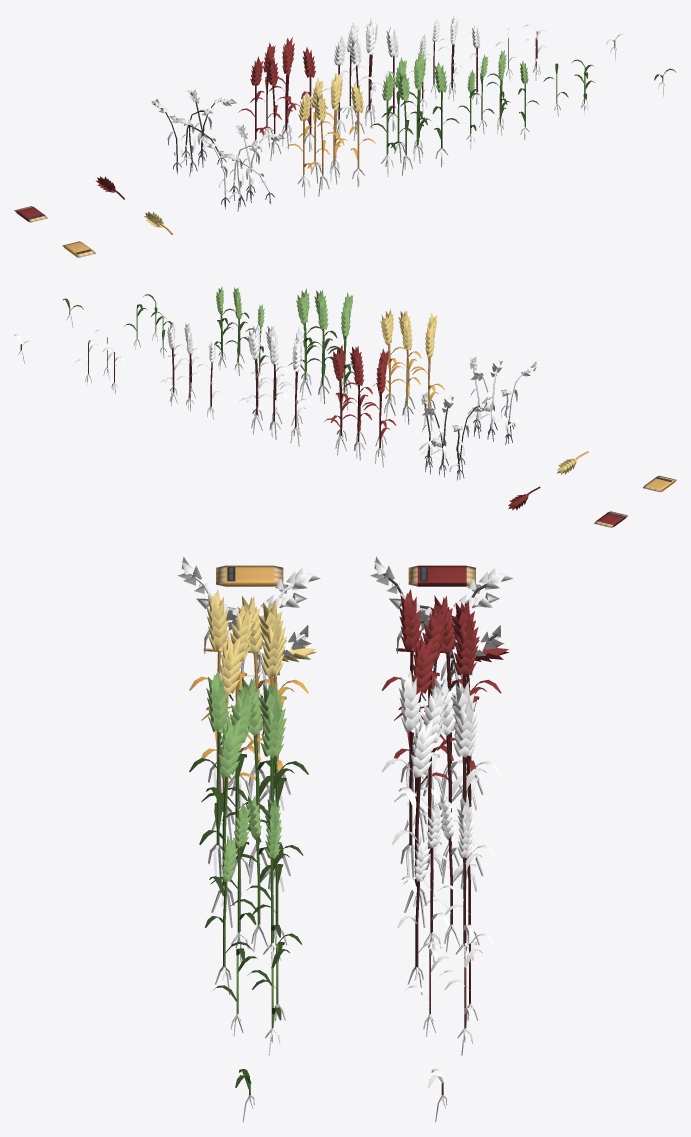
The model's file is WheatPlants.fbx.
3 views of the same model, one above another, from view 1: azimuth 30°, elevation 25°; view 2: azimuth 150°, elevation 25°; view 3: azimuth 270°, elevation 25° (orthographic). The views are drawn at different scales.
Parts seen in each view (by area): view 1: WheatStage4, WheatHarvest, MeatWheatHarvest, MeatWheatStage4, WheatDead, MeatWheatDead, WheatStage3, MeatWheatStage3, WheatStage2, MeatWheatStage2; view 2: MeatWheatHarvest, MeatWheatStage4, WheatHarvest, WheatStage4, MeatWheatDead, WheatDead, MeatWheatStage3, WheatStage3, WheatStage2, MeatWheatStage2; view 3: WheatStage4, MeatWheatStage4, WheatHarvest, MeatWheatHarvest, WheatStage3, MeatWheatStage3, MeatWheatDead, WheatDead, WheatStage2, MeatWheatSeeds, WheatSeeds, MeatWheatStage2.
Boxes of the visible parts, <box> form: WheatStage4: <box>370,52,459,176</box>; WheatHarvest: <box>286,73,375,197</box>; MeatWheatHarvest: <box>238,37,327,162</box>; MeatWheatStage4: <box>322,17,411,140</box>; WheatDead: <box>199,124,284,211</box>; MeatWheatDead: <box>151,89,236,176</box>; WheatStage3: <box>457,50,539,148</box>; MeatWheatStage3: <box>409,14,490,113</box>; WheatStage2: <box>543,59,594,116</box>; MeatWheatStage2: <box>495,24,546,80</box>; MeatWheatHarvest: <box>324,344,396,467</box>; MeatWheatStage4: <box>239,324,311,446</box>; WheatHarvest: <box>372,309,444,431</box>; WheatStage4: <box>288,288,353,410</box>; MeatWheatDead: <box>419,392,492,480</box>; WheatDead: <box>467,357,541,444</box>; MeatWheatStage3: <box>159,322,219,419</box>; WheatStage3: <box>209,287,267,381</box>; WheatStage2: <box>124,294,172,358</box>; MeatWheatStage2: <box>75,329,125,393</box>; WheatStage4: <box>189,670,308,928</box>; MeatWheatStage4: <box>381,670,501,927</box>; WheatHarvest: <box>189,589,308,841</box>; MeatWheatHarvest: <box>382,589,501,841</box>; WheatStage3: <box>205,795,303,995</box>; MeatWheatStage3: <box>397,795,495,994</box>; MeatWheatDead: <box>370,556,512,745</box>; WheatDead: <box>177,557,320,745</box>; WheatStage2: <box>213,933,301,1055</box>; MeatWheatSeeds: <box>408,565,475,586</box>; WheatSeeds: <box>216,565,283,586</box>; MeatWheatStage2: <box>406,933,494,1055</box>.
Size of the model in its own units: 7.23 by 1.29 by 1.75.
